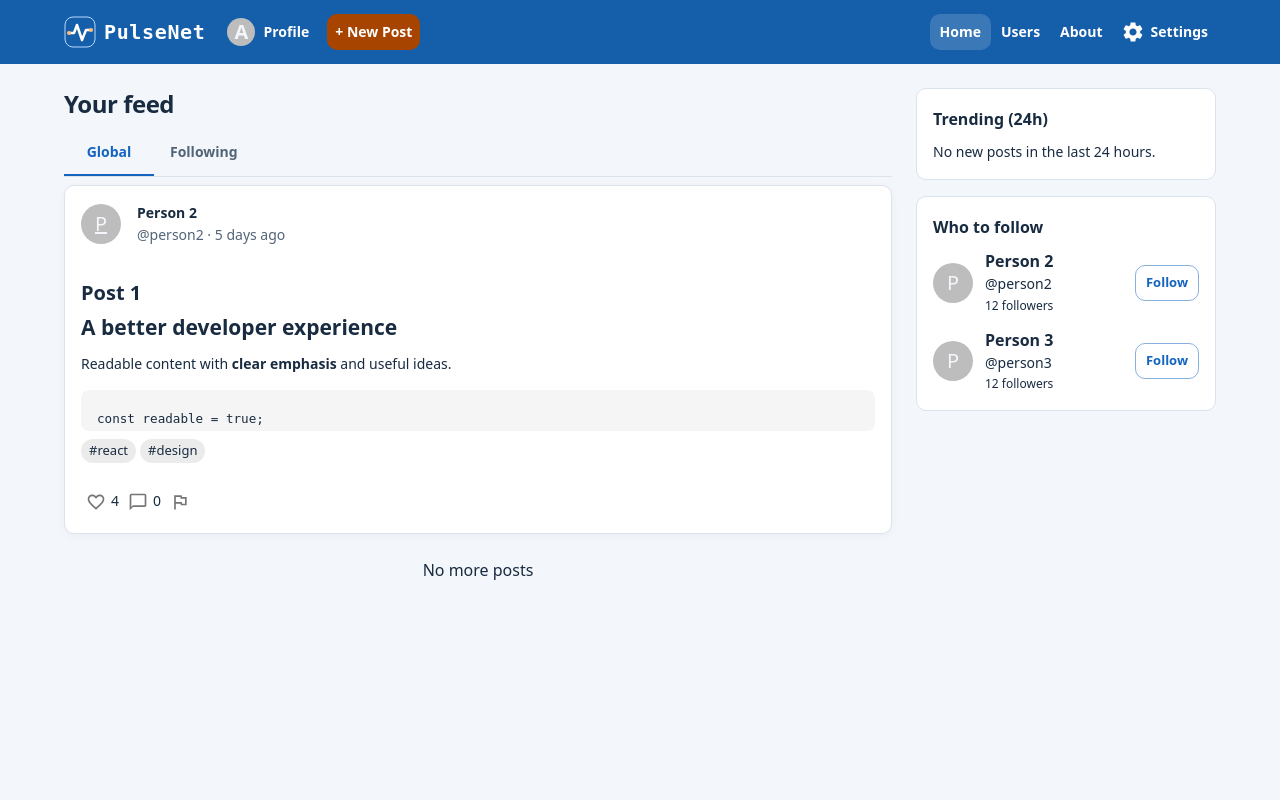
frontend request recovery › keeps each suggested follow disabled until its own request finishes
This screenshot has width=1280, height=800.
Click the 1st button "Follow": (1167, 283) [1135,265,1199,301]
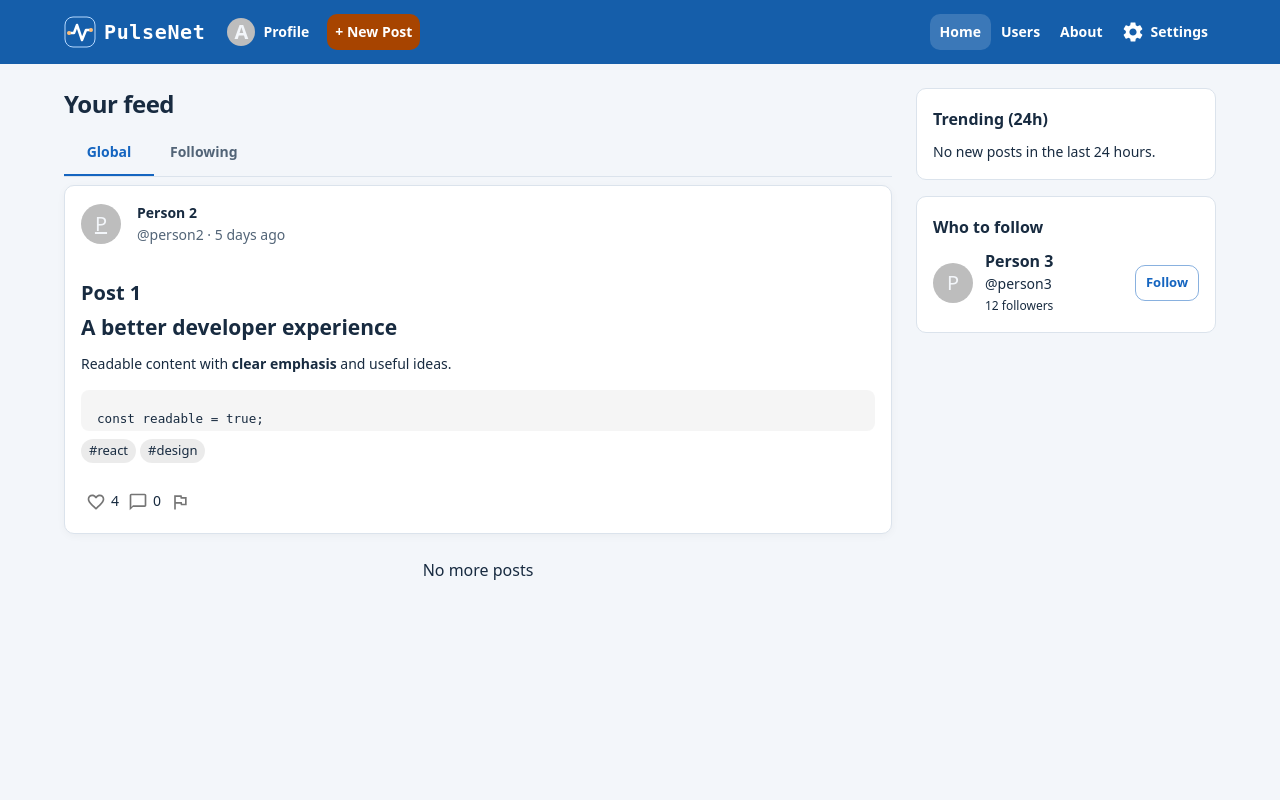
Click the button "Follow": (1167, 283) [1135,265,1199,301]
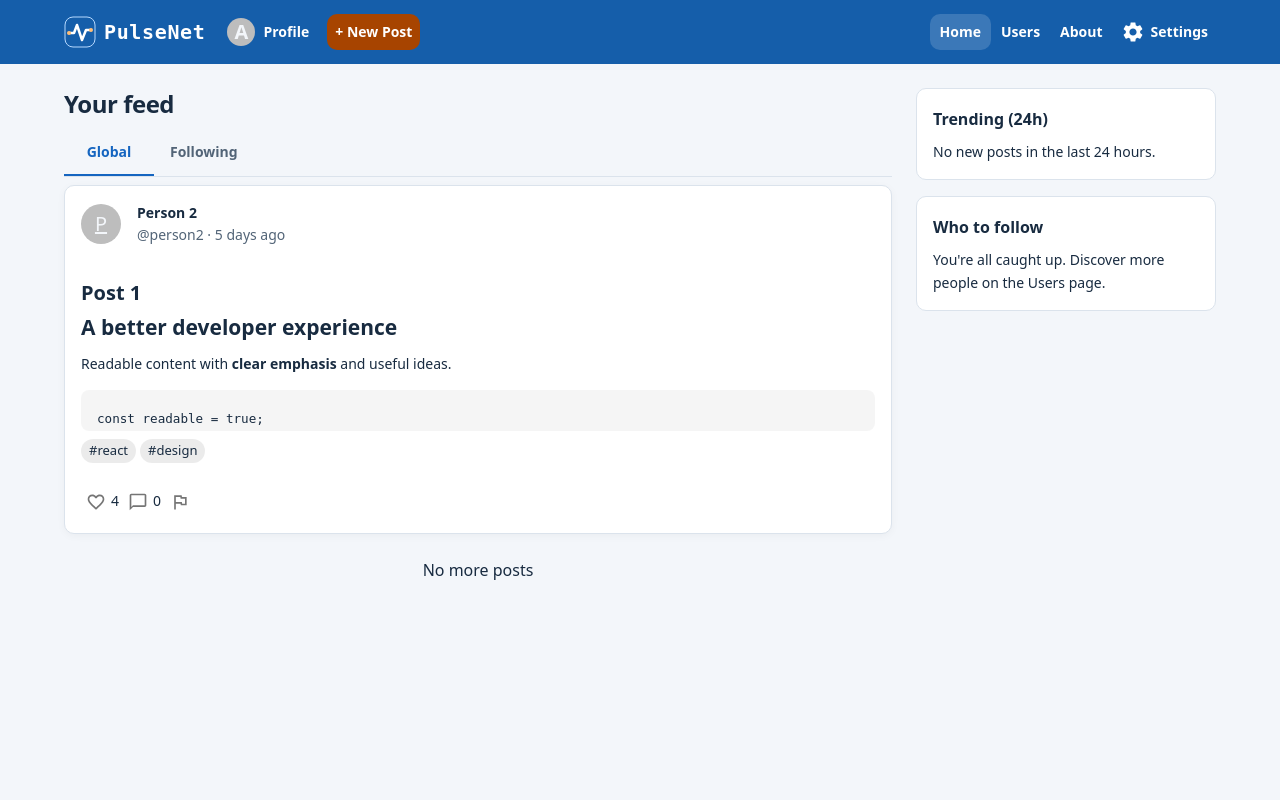
Now the text with test id "who-to-follow" shows "You're all caught up.", box [933,250,1165,291]
